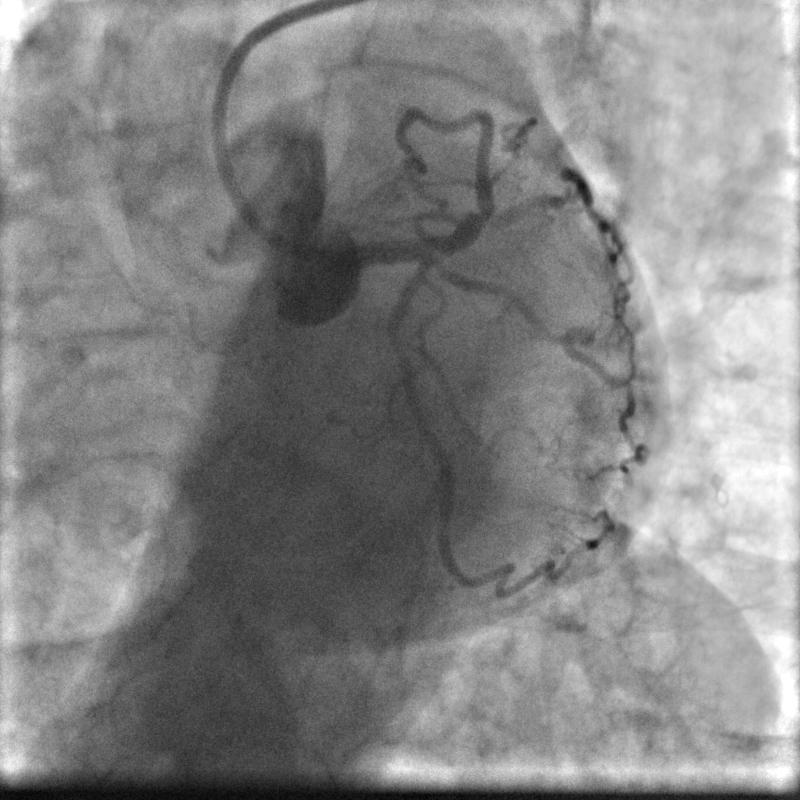Stenosis: (387, 327, 410, 363)
